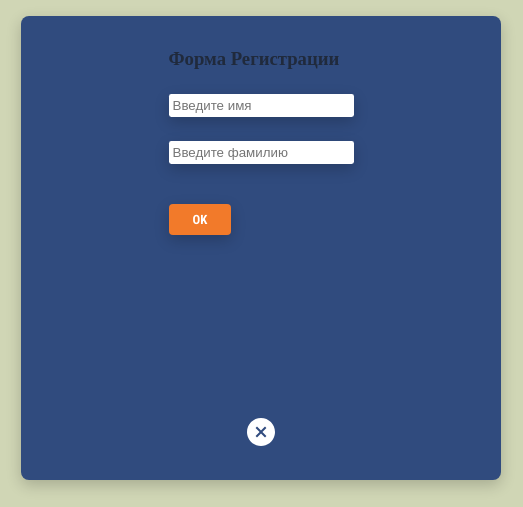
Test: UserForm › показывает ошибку, если в firstName введены цифры
The image size is (523, 507).
Type "123" into the field with placeholder "Введите имя" at (261, 106), box [168,94,354,117]
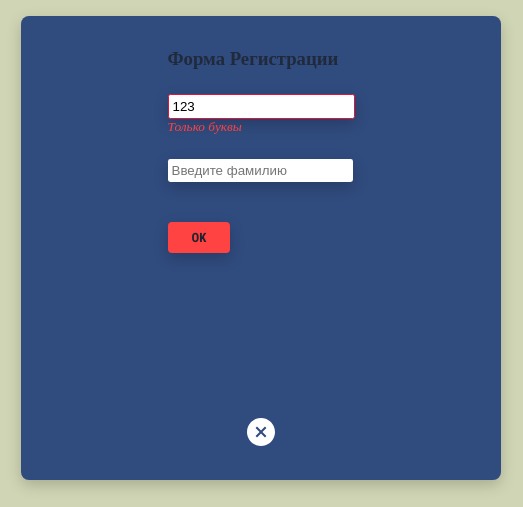
Check: the text "Только буквы" is shown, box [168,119,242,135]
